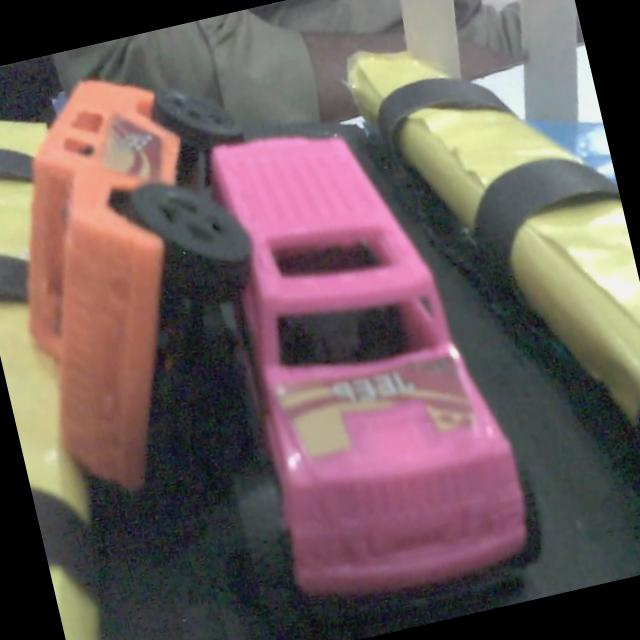Accident: (25, 81, 541, 639)
